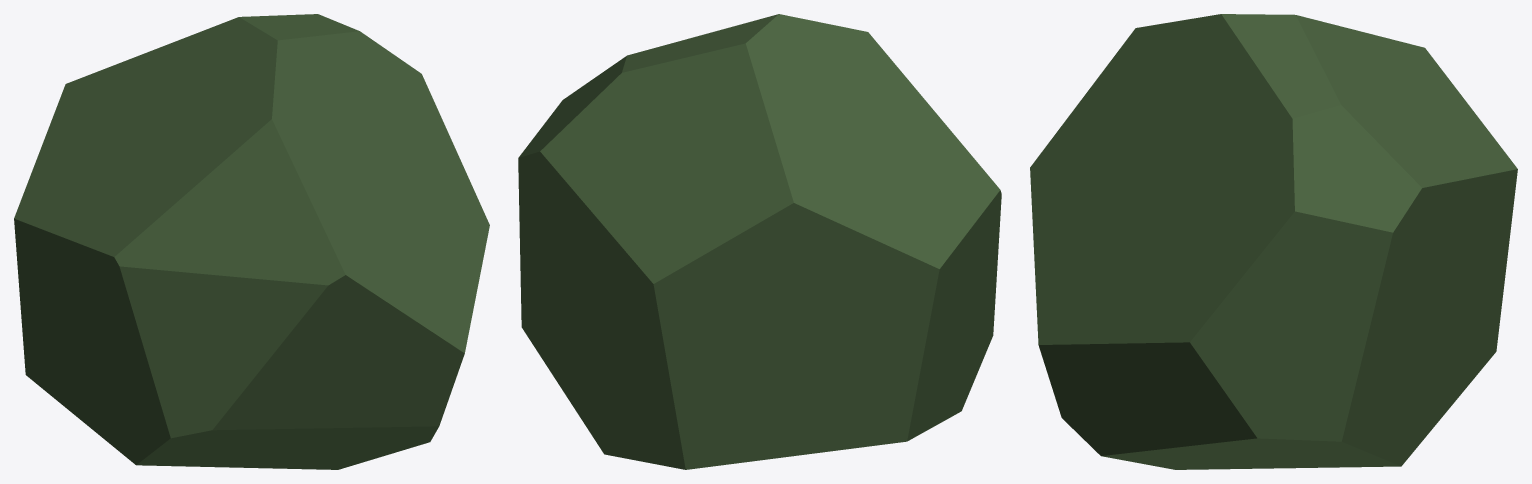
Rendered from StoneMediumLarge2.fbx.
3 views of the same model, side by side, from view 1: azimuth 30°, elevation 25°; view 2: azimuth 150°, elevation 25°; view 3: azimuth 270°, elevation 25° (orthographic). The views are drawn at different scales.
Visible parts, largest first — view 1: StoneMediumLarge2; view 2: StoneMediumLarge2; view 3: StoneMediumLarge2.
Boxes of the visible parts, x1,y1,x2,y2 form: StoneMediumLarge2: (14,14,489,469); StoneMediumLarge2: (518,14,1001,469); StoneMediumLarge2: (1030,14,1517,469).
Bounding box in the file's own units: 262 × 256 × 259.
1 material, 1 textured.
